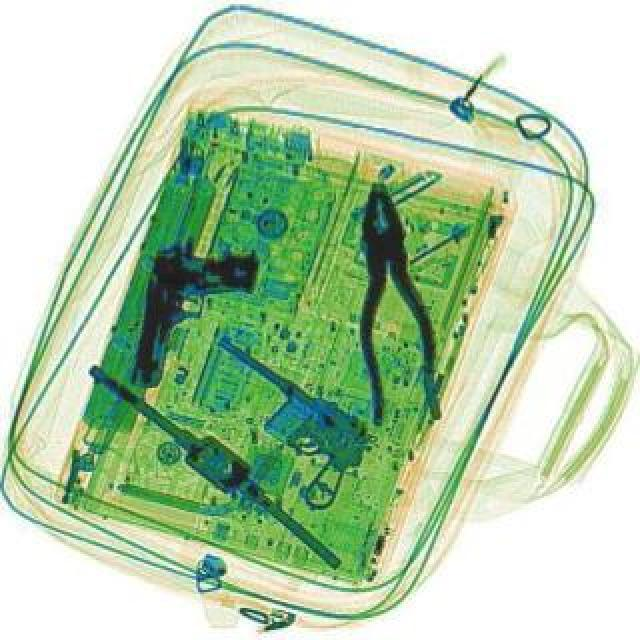gun: (162, 330, 386, 516), (124, 234, 260, 400)
wrench: (338, 176, 446, 424)
